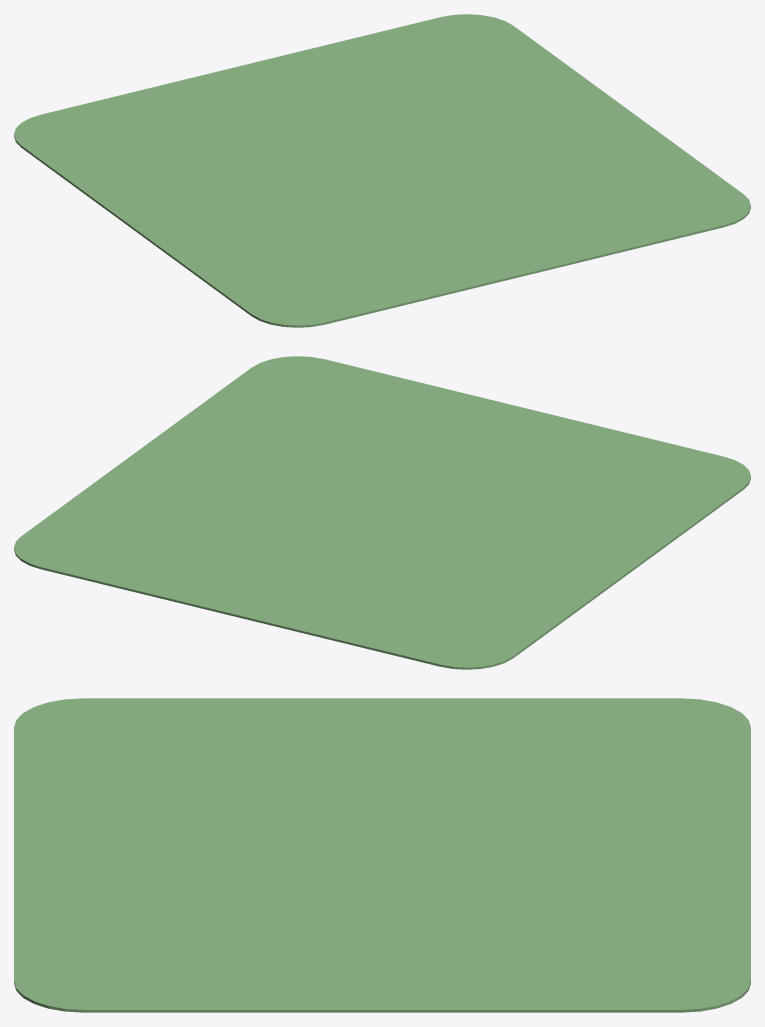
3 renders of one model, top to bottom at view 1: azimuth 30°, elevation 25°; view 2: azimuth 150°, elevation 25°; view 3: azimuth 270°, elevation 25°, orthographic. The views are drawn at different scales.
Parts seen in each view (by area): view 1: COM-02 Floor Surface; view 2: COM-02 Floor Surface; view 3: COM-02 Floor Surface.
Part boxes in pixels (box(x1,y1,x2,y2)): COM-02 Floor Surface: box(14, 14, 750, 327); COM-02 Floor Surface: box(14, 356, 750, 669); COM-02 Floor Surface: box(14, 698, 750, 1012).
Bounding box in the file's own units: 192 × 0.8 × 192.
